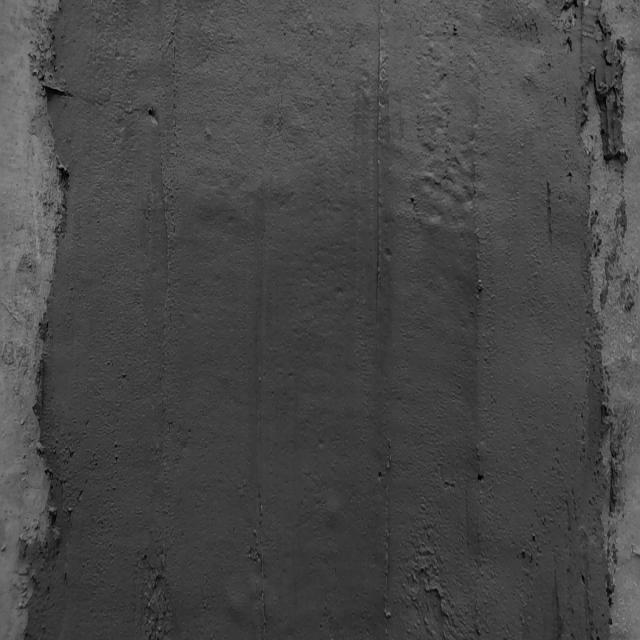trowels marks: (374, 20, 385, 313), (382, 424, 394, 626), (256, 489, 266, 640)
